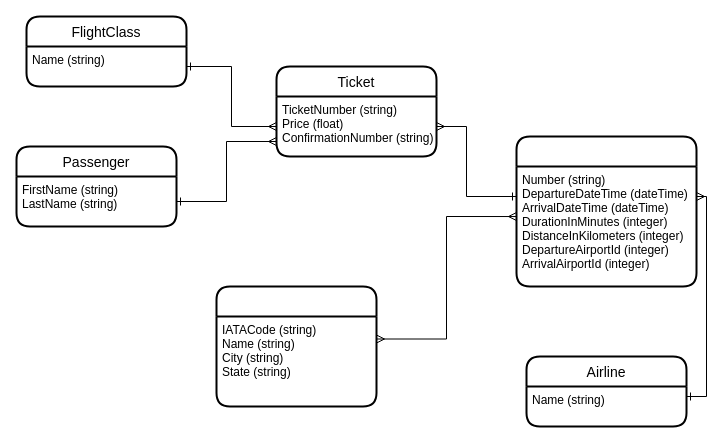
Some shapes in this 723 by 443 pixel diagram are drawn without their labels. Here are the shapes that lost their labels. From the top down, the box of each, then its label:
(515, 135, 697, 287): Flight
(215, 285, 377, 407): Airport
